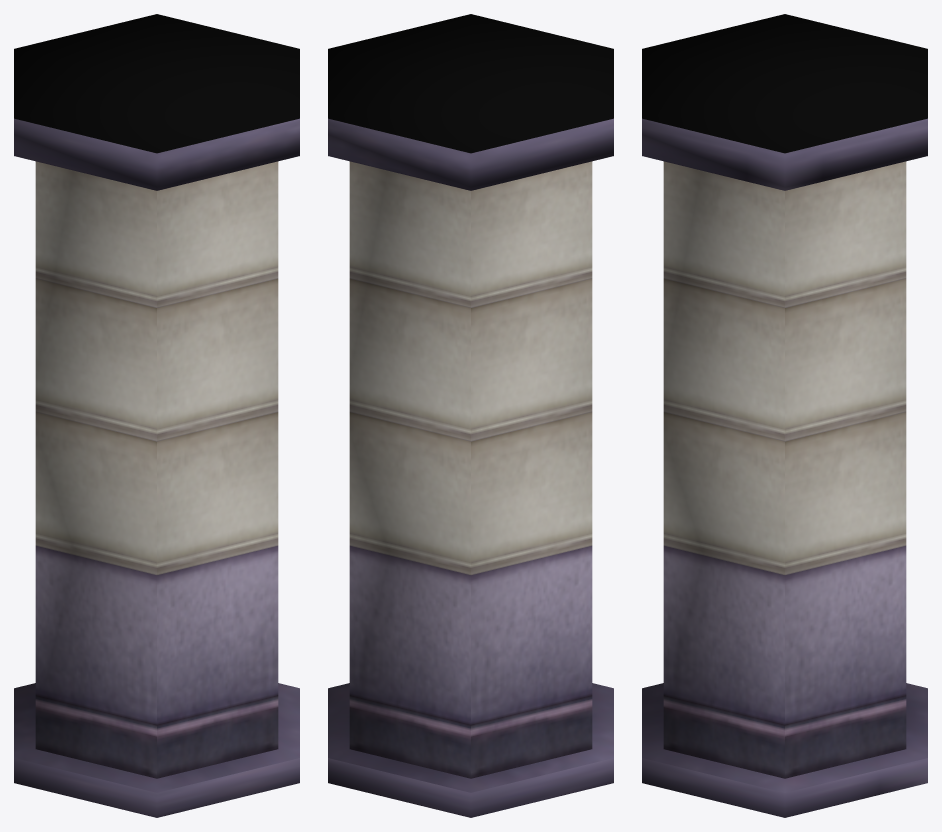
File: a_SCpillar01.glb
3 renders of one model, left to right at view 1: azimuth 30°, elevation 25°; view 2: azimuth 150°, elevation 25°; view 3: azimuth 270°, elevation 25°, orthographic.
Visible parts, largest first — view 1: a_SCpillar01; view 2: a_SCpillar01; view 3: a_SCpillar01.
Part boxes in pixels (left/top/right/bottom): a_SCpillar01: left=14, top=14, right=299, bottom=817; a_SCpillar01: left=328, top=14, right=613, bottom=817; a_SCpillar01: left=642, top=14, right=927, bottom=817.
Bounding box in the file's own units: 1.29 × 2.86 × 1.12.
1 material, 1 textured.
